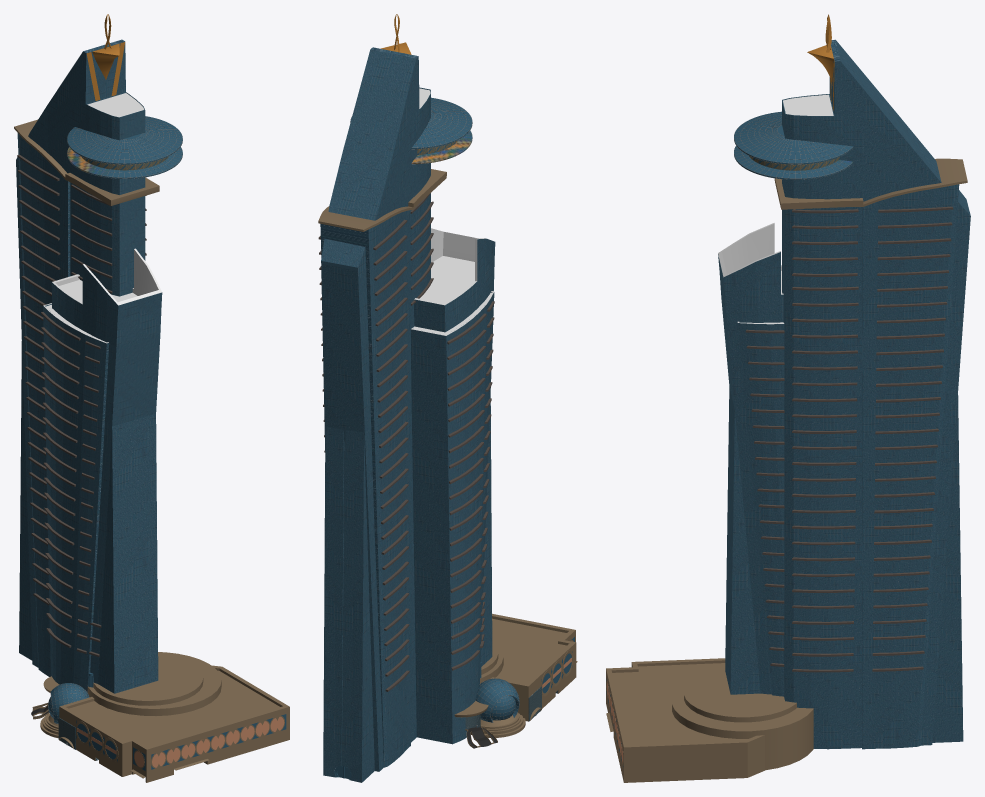
File: world_trade_center_tower_low.glb
3 renders of one model, left to right at view 1: azimuth 30°, elevation 25°; view 2: azimuth 150°, elevation 25°; view 3: azimuth 270°, elevation 25°, orthographic. The views are drawn at different scales.
Visible parts, largest first — view 1: WTC_1019, WTC_1547, WTC_990, WTC_1483, WTC_1533, WTC_1047, WTC_1511, WTC_1088, WTC_1061, WTC_1469; view 2: WTC_1019, WTC_990, WTC_1547, WTC_1483, WTC_1047, WTC_1533, WTC_1511, WTC_1061, WTC_1496; view 3: WTC_1019, WTC_1547, WTC_990, WTC_1483, WTC_1047, WTC_1533, WTC_1511, WTC_1061, WTC_1469.
Boxes of the visible parts, bbox=[...] form: WTC_1019: bbox=[16, 39, 162, 693]; WTC_1547: bbox=[43, 652, 289, 782]; WTC_990: bbox=[17, 154, 146, 656]; WTC_1483: bbox=[48, 116, 286, 770]; WTC_1533: bbox=[14, 119, 284, 778]; WTC_1047: bbox=[43, 93, 161, 343]; WTC_1511: bbox=[48, 117, 182, 717]; WTC_1088: bbox=[77, 716, 284, 767]; WTC_1061: bbox=[67, 147, 182, 178]; WTC_1469: bbox=[86, 14, 125, 100]; WTC_1019: bbox=[320, 47, 495, 782]; WTC_990: bbox=[318, 194, 494, 691]; WTC_1547: bbox=[454, 613, 576, 721]; WTC_1483: bbox=[334, 97, 574, 779]; WTC_1047: bbox=[411, 88, 494, 335]; WTC_1533: bbox=[318, 169, 577, 748]; WTC_1511: bbox=[350, 98, 515, 720]; WTC_1061: bbox=[411, 123, 472, 163]; WTC_1496: bbox=[465, 686, 557, 729]; WTC_1019: bbox=[718, 39, 970, 749]; WTC_1547: bbox=[606, 658, 813, 782]; WTC_990: bbox=[745, 206, 953, 672]; WTC_1483: bbox=[606, 111, 853, 766]; WTC_1047: bbox=[718, 94, 833, 324]; WTC_1533: bbox=[606, 158, 967, 765]; WTC_1511: bbox=[734, 112, 852, 179]; WTC_1061: bbox=[734, 146, 853, 179]; WTC_1469: bbox=[807, 14, 834, 110].
Size of the model in its own units: 69.32 by 254 by 116.
13 materials, 13 textured.
